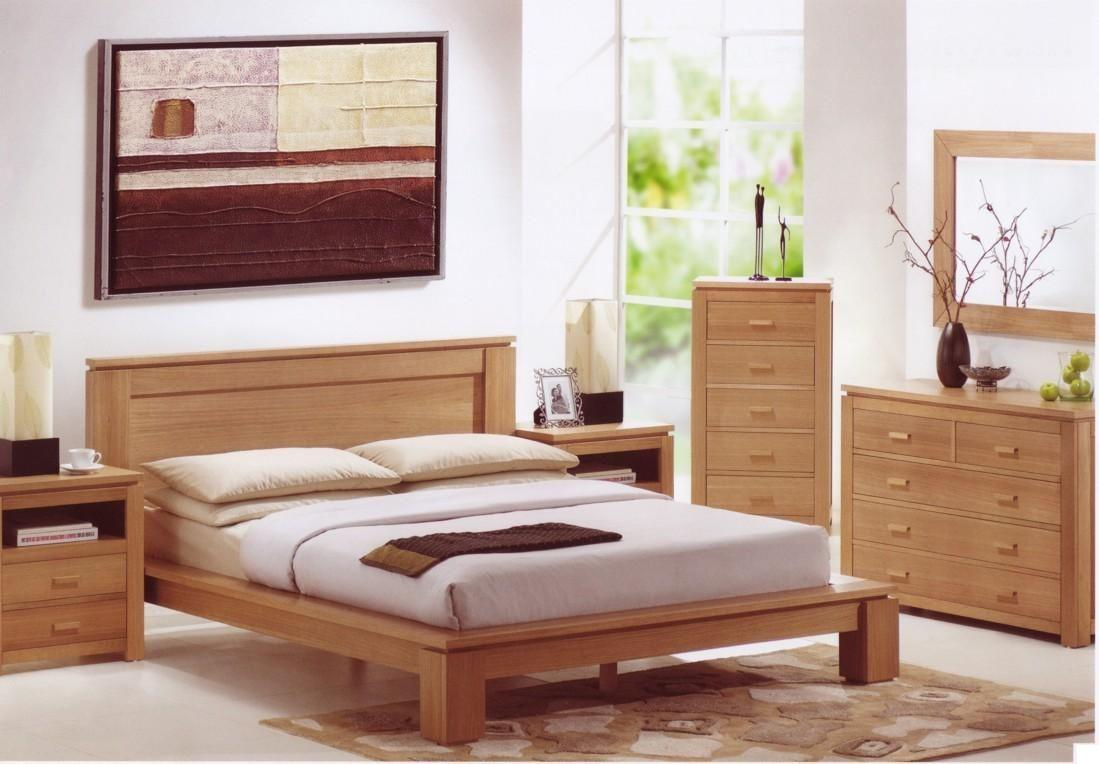bed: (123, 347, 828, 702)
